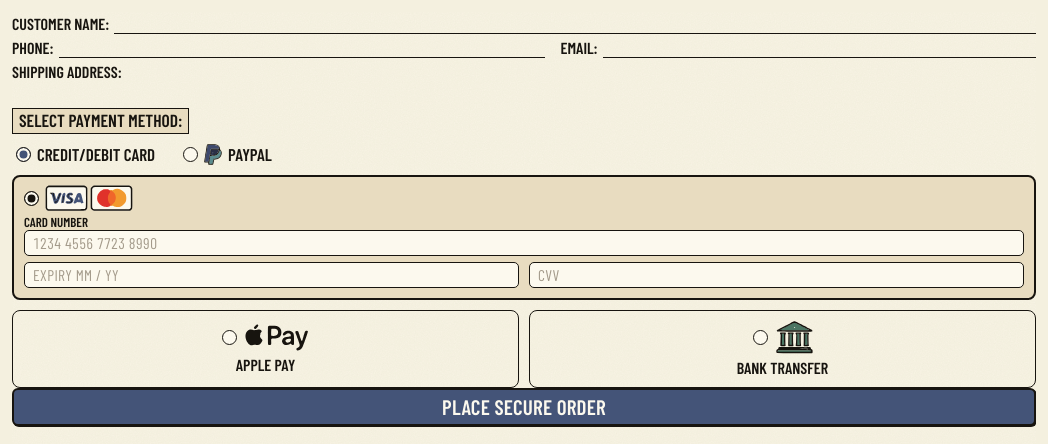
it: checkout form › formats the card number and expiry while typing and lights up the brand
In the field labelled "Card number": (524, 243) left=24, top=230, right=1024, bottom=256, type "5555555555554444"
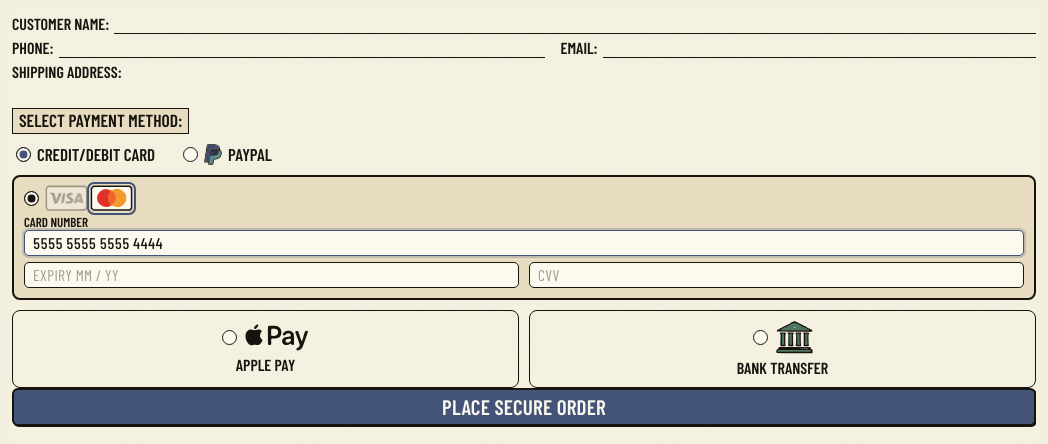
In the field named "Expiration date, MM / YY": (272, 275) left=24, top=262, right=519, bottom=288, type "1230"
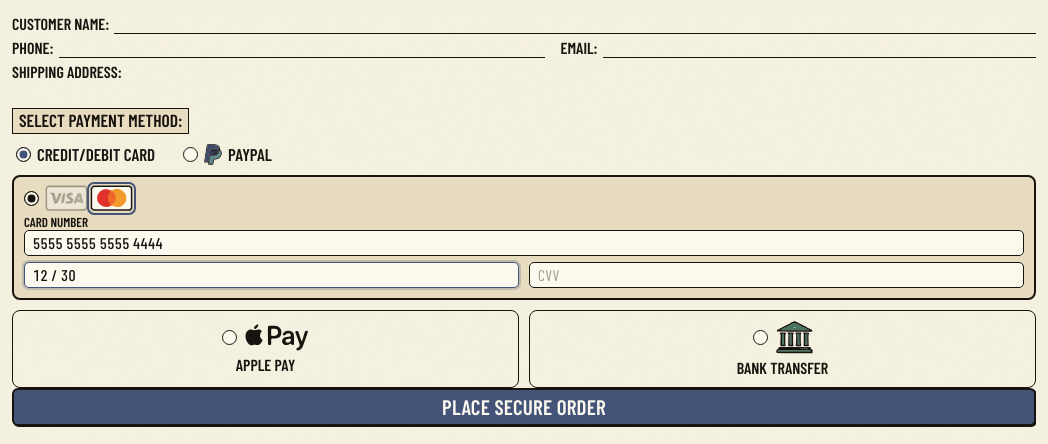
Now the field labelled "Card number" holds "5555 5555 5555 4444", box left=24, top=230, right=1024, bottom=256
Now the field named "Expiration date, MM / YY" holds "12 / 30", box left=24, top=262, right=519, bottom=288
